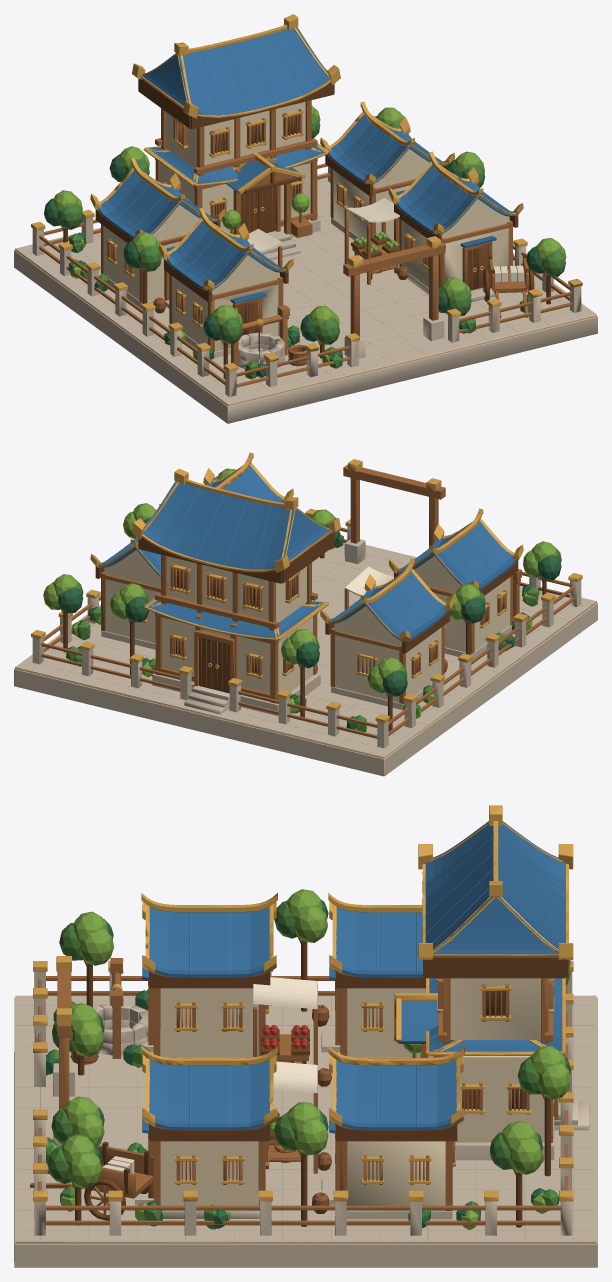
File: city-3-lod0-c72f7b04a55e.glb
3 renders of one model, top to bottom at view 1: azimuth 30°, elevation 25°; view 2: azimuth 150°, elevation 25°; view 3: azimuth 270°, elevation 25°, orthographic. The views are drawn at different scales.
Visible parts, largest first — view 1: SM_CT3_V4_Batch_0.003, SM_CT3_V4_Batch_45.003, SM_CT3_V4_Batch_88.003, SM_CT3_V4_Batch_44.003, SM_CT3_V4_Batch_89.003, SM_CT3_V4_Batch_98.003, SM_CT3_V4_Batch_131.003, SM_CT3_V4_Batch_86.003, SM_CT3_V4_Batch_133.003, SM_CT3_V4_Batch_113.003, SM_CT3_V4_Batch_3.003, SM_CT3_V4_Batch_1.003 (+1 smaller); view 2: SM_CT3_V4_Batch_0.003, SM_CT3_V4_Batch_45.003, SM_CT3_V4_Batch_88.003, SM_CT3_V4_Batch_44.003, SM_CT3_V4_Batch_89.003, SM_CT3_V4_Batch_98.003, SM_CT3_V4_Batch_86.003, SM_CT3_V4_Batch_133.003, SM_CT3_V4_Batch_131.003, SM_CT3_V4_Batch_3.003, SM_CT3_V4_Batch_1.003, SM_CT3_V4_Batch_46.003 (+1 smaller); view 3: SM_CT3_V4_Batch_0.003, SM_CT3_V4_Batch_45.003, SM_CT3_V4_Batch_44.003, SM_CT3_V4_Batch_88.003, SM_CT3_V4_Batch_89.003, SM_CT3_V4_Batch_98.003, SM_CT3_V4_Batch_86.003, SM_CT3_V4_Batch_131.003, SM_CT3_V4_Batch_113.003, SM_CT3_V4_Batch_3.003, SM_CT3_V4_Batch_46.003, SM_CT3_V4_Batch_133.003 (+3 smaller).
Boxes of the visible parts, <box> form: SM_CT3_V4_Batch_0.003: <box>14,166,597,423</box>; SM_CT3_V4_Batch_45.003: <box>98,27,515,303</box>; SM_CT3_V4_Batch_88.003: <box>39,100,572,387</box>; SM_CT3_V4_Batch_44.003: <box>104,101,509,351</box>; SM_CT3_V4_Batch_89.003: <box>31,14,582,371</box>; SM_CT3_V4_Batch_98.003: <box>63,78,550,378</box>; SM_CT3_V4_Batch_131.003: <box>58,114,565,379</box>; SM_CT3_V4_Batch_86.003: <box>53,105,566,376</box>; SM_CT3_V4_Batch_133.003: <box>44,115,543,377</box>; SM_CT3_V4_Batch_113.003: <box>247,198,524,282</box>; SM_CT3_V4_Batch_3.003: <box>25,180,585,399</box>; SM_CT3_V4_Batch_1.003: <box>15,249,596,405</box>; SM_CT3_V4_Batch_0.003: <box>14,517,597,776</box>; SM_CT3_V4_Batch_45.003: <box>98,465,515,640</box>; SM_CT3_V4_Batch_88.003: <box>41,464,574,738</box>; SM_CT3_V4_Batch_44.003: <box>104,550,510,702</box>; SM_CT3_V4_Batch_89.003: <box>31,452,582,723</box>; SM_CT3_V4_Batch_98.003: <box>63,533,546,731</box>; SM_CT3_V4_Batch_86.003: <box>43,468,558,730</box>; SM_CT3_V4_Batch_133.003: <box>58,518,561,729</box>; SM_CT3_V4_Batch_131.003: <box>66,516,561,731</box>; SM_CT3_V4_Batch_3.003: <box>25,547,585,752</box>; SM_CT3_V4_Batch_1.003: <box>15,602,596,758</box>; SM_CT3_V4_Batch_46.003: <box>111,480,502,635</box>; SM_CT3_V4_Batch_0.003: <box>14,971,597,1267</box>; SM_CT3_V4_Batch_45.003: <box>142,821,565,1133</box>; SM_CT3_V4_Batch_44.003: <box>160,978,544,1210</box>; SM_CT3_V4_Batch_88.003: <box>30,936,568,1225</box>; SM_CT3_V4_Batch_89.003: <box>33,805,573,1201</box>; SM_CT3_V4_Batch_98.003: <box>70,940,568,1227</box>; SM_CT3_V4_Batch_86.003: <box>50,889,571,1229</box>; SM_CT3_V4_Batch_131.003: <box>46,900,558,1229</box>; SM_CT3_V4_Batch_113.003: <box>103,977,317,1173</box>; SM_CT3_V4_Batch_3.003: <box>17,996,594,1240</box>; SM_CT3_V4_Batch_46.003: <box>189,836,565,1126</box>; SM_CT3_V4_Batch_133.003: <box>46,899,570,1228</box>.
Size of the model in its own units: 10 by 5.66 by 10.
Materials: 16 (4 with a texture image).
